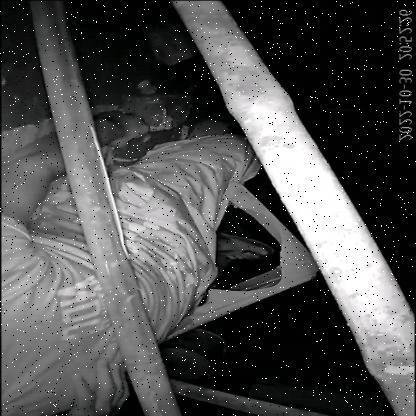hand: (0, 100, 155, 231), (47, 352, 143, 416)
